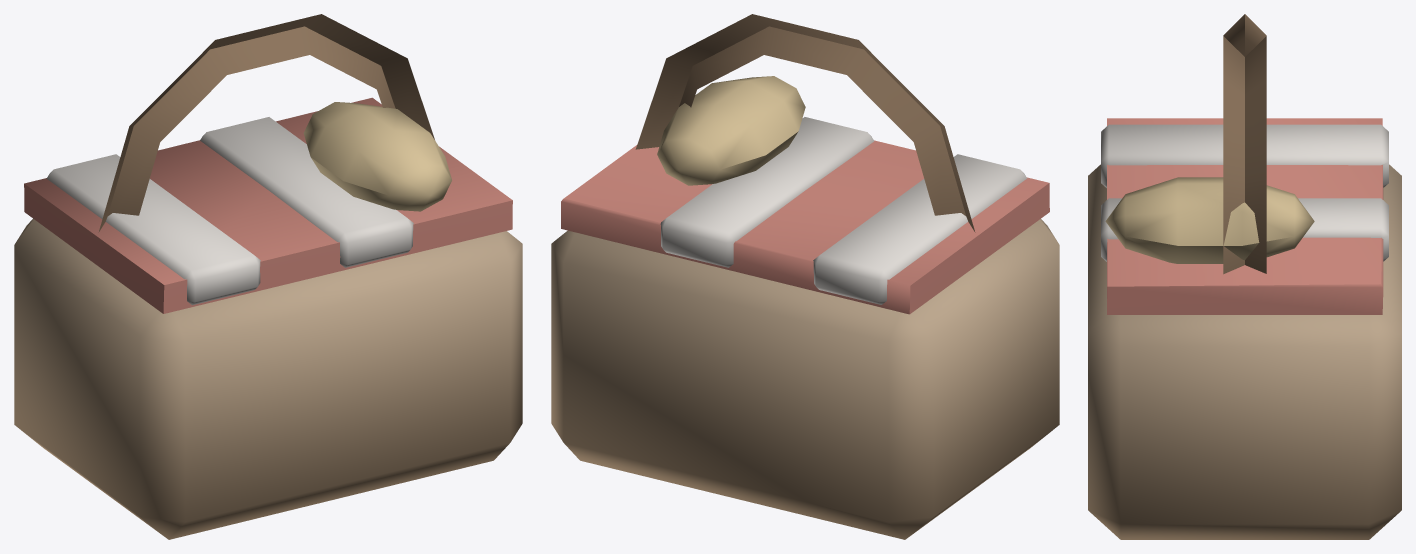
The model's file is picnic_basket.glb.
3 renders of one model, left to right at view 1: azimuth 30°, elevation 25°; view 2: azimuth 150°, elevation 25°; view 3: azimuth 270°, elevation 25°, orthographic.
Visible parts, largest first — view 1: picnic_basket; view 2: picnic_basket; view 3: picnic_basket.
Boxes of the visible parts, x1,y1,x2,y2 form: picnic_basket: (14,14,522,539); picnic_basket: (551,14,1059,539); picnic_basket: (1088,14,1401,539).
Size of the model in its own units: 0.5 by 0.534 by 0.36.
